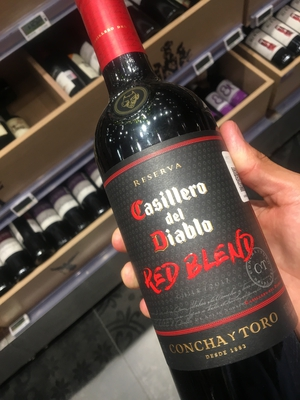casillero del diablo red blend: (70, 8, 296, 397)
